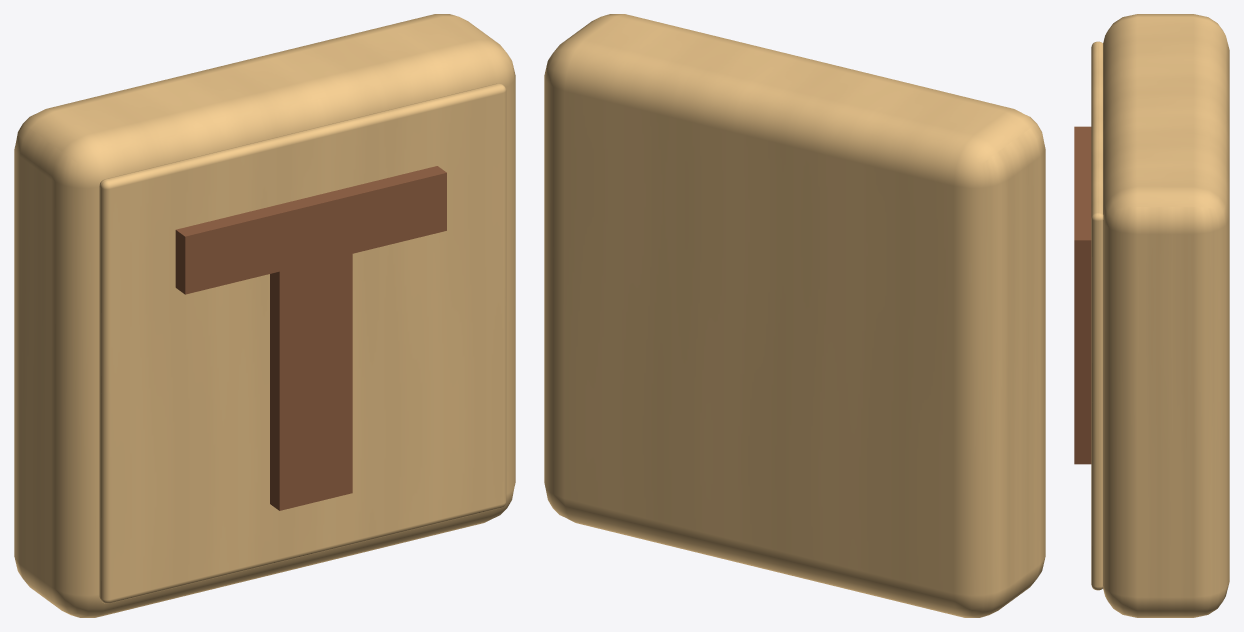
3 renders of one model, left to right at view 1: azimuth 30°, elevation 25°; view 2: azimuth 150°, elevation 25°; view 3: azimuth 270°, elevation 25°, orthographic. The views are drawn at different scales.
Visible parts, largest first — view 1: Tile_T; view 2: Tile_T; view 3: Tile_T.
Boxes of the visible parts, x1,y1,x2,y2 form: Tile_T: (14,14,515,617); Tile_T: (544,14,1045,617); Tile_T: (1074,14,1229,617).
Size of the model in its own units: 0.21 by 0.21 by 0.069.
Materials: 2 (1 with a texture image).
